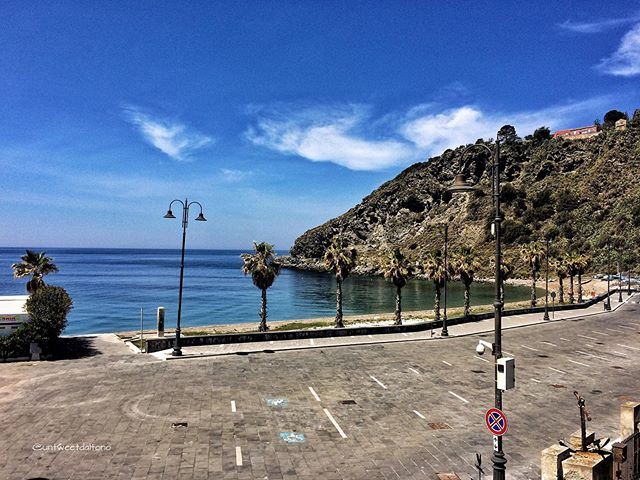light pole: (435, 147, 523, 480), (161, 192, 208, 359)
mountain: (335, 99, 640, 211)
sea: (5, 246, 518, 314)
sky: (10, 1, 640, 221)
